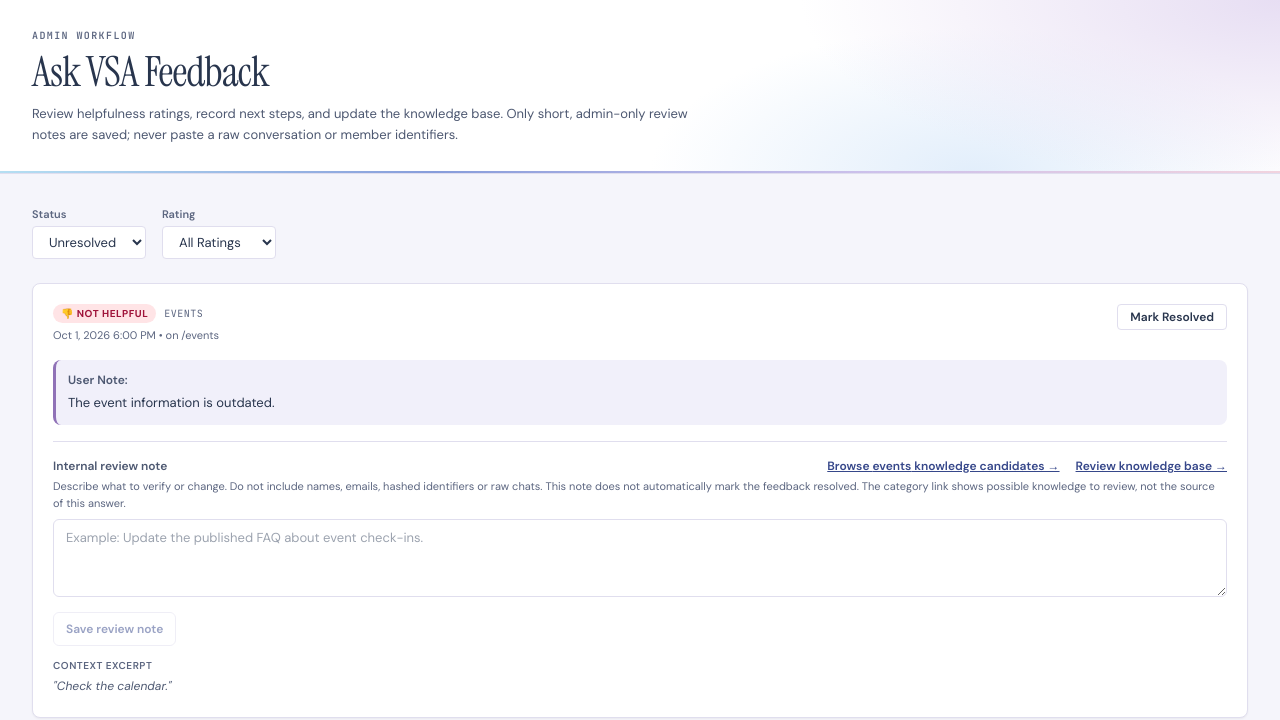
Scenario: Ask VSA feedback: private review notes (#237) › saves a trimmed admin-only note and offers the existing knowledge editor
Expected: the text "Do not include names, emails, hashed identifiers or raw chats" is shown, [53,479,1215,510]
Expected: the button "Save review note" is disabled, [53,612,176,646]
Type "  Confirm current event eligibility.  " into the text box labelled "Internal review note" at [640, 558], box [53,519,1227,597]
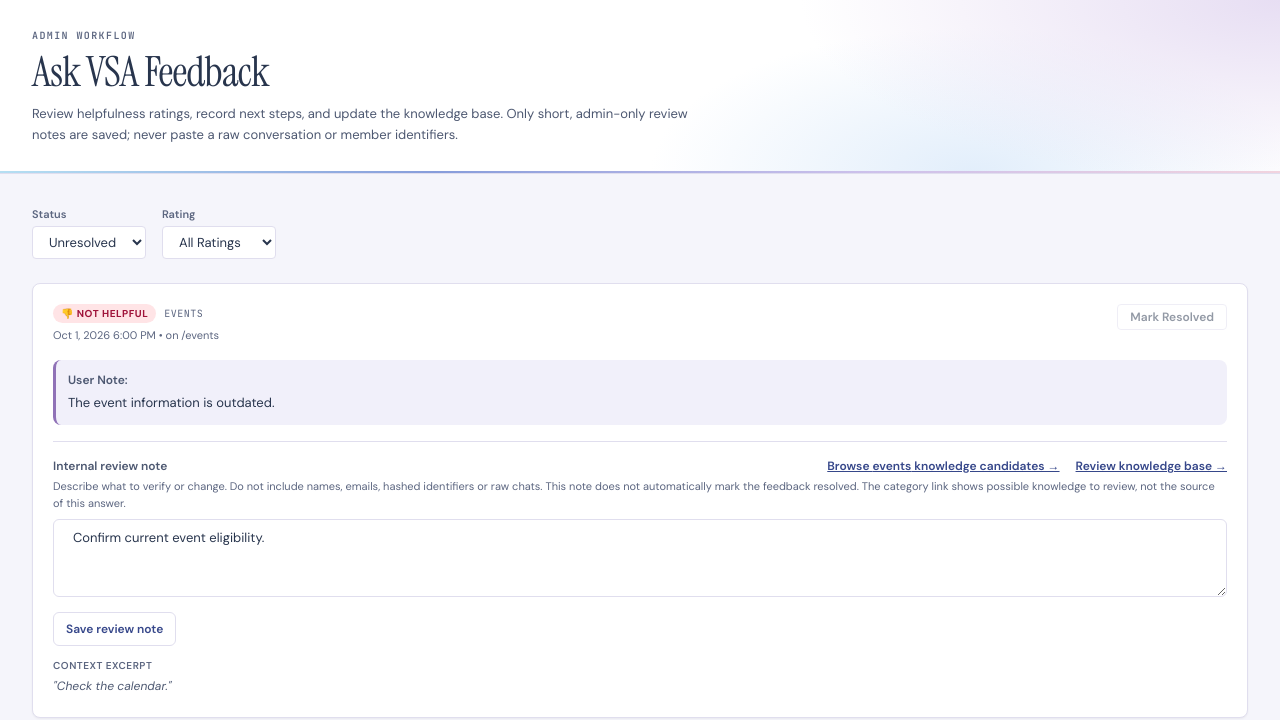
Now the button "Mark Resolved" is disabled, box [1117,304,1227,330]
Now the button "Save review note" is enabled
Click the button "Save review note" at [115, 629], box [53,612,176,646]
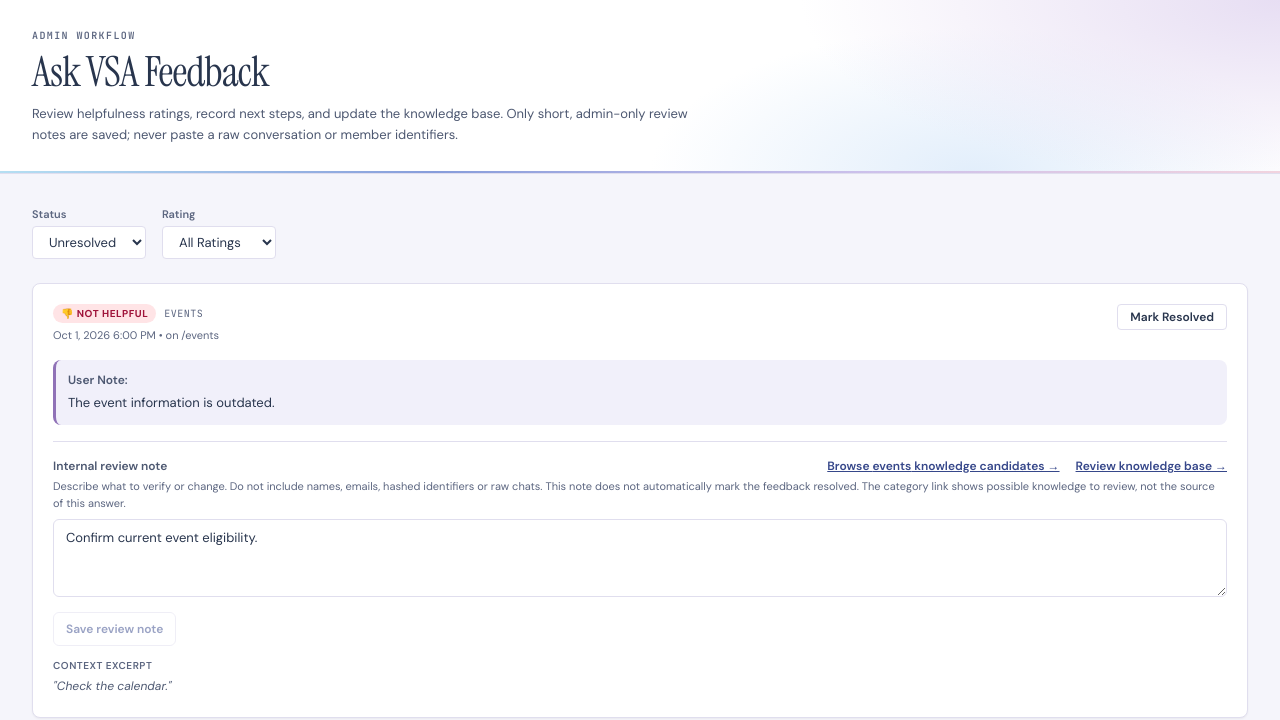
Now the button "Save review note" is disabled, box [53,612,176,646]
Now the button "Mark Resolved" is enabled, box [1117,304,1227,330]
